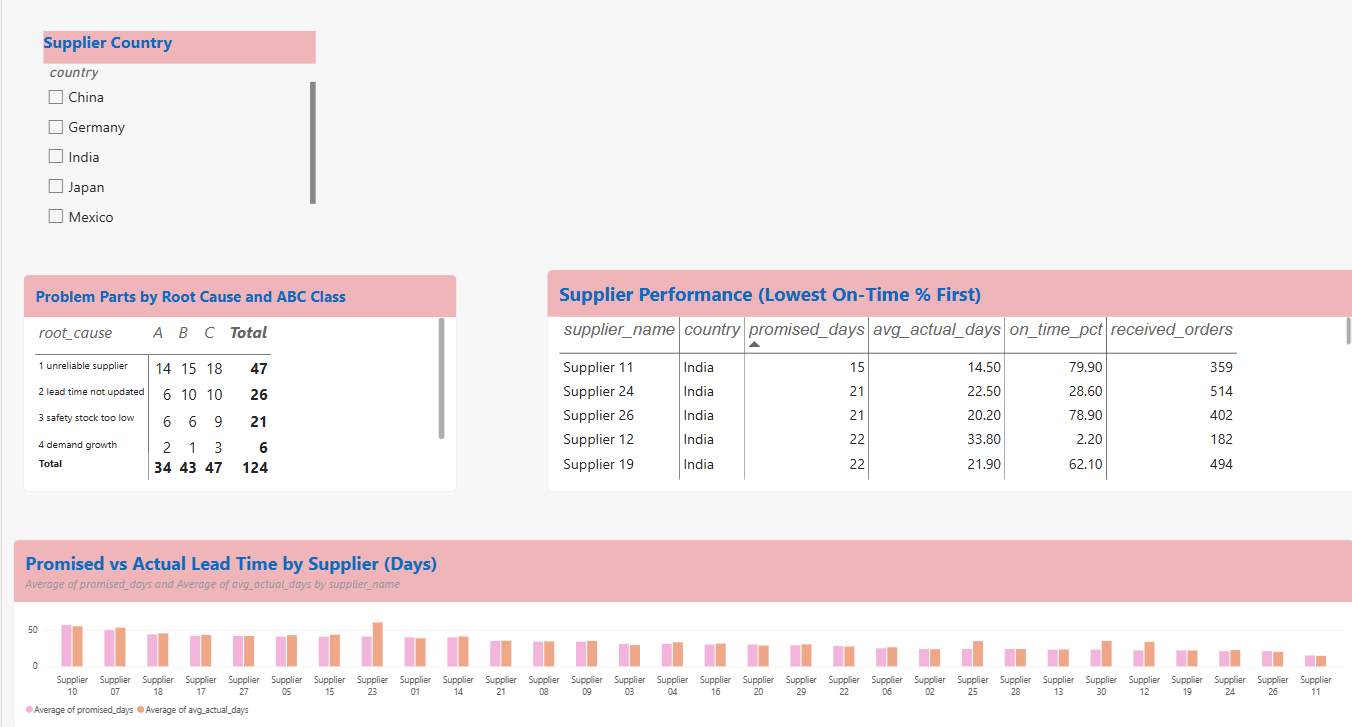

Layout of this report page (visuals, bound fields, positions):
{"tool":"powerbi","page":{"name":"Suppliers and Root Cause","canvas":[1920,1080],"ordinal":1},"visuals":[{"type":"slicer","title":"Supplier Country","fields":{"Values":["public dim_supplier.country"]},"box":[58.1,47.6,384.1,280.1],"z":0},{"type":"tableEx","title":"Supplier Performance (Lowest On-Time % First)","fields":{"Values":["public v_supplier_perf.supplier_name","public v_supplier_perf.country","public v_supplier_perf.promised_days","public v_supplier_perf.avg_actual_days","public v_supplier_perf.on_time_pct","public v_supplier_perf.received_orders"]},"box":[768.1,384.1,1152.2,313.6],"z":1},{"type":"clusteredColumnChart","title":"Promised vs Actual Lead Time by Supplier (Days)","fields":{"Category":["public v_supplier_perf.supplier_name"],"Y":["Avg(public v_supplier_perf.promised_days)","Avg(public v_supplier_perf.avg_actual_days)"]},"box":[15.9,764.6,1892.2,270],"z":2},{"type":"pivotTable","title":"Problem Parts by Root Cause and ABC Class","fields":{"Columns":["public v_part_rootcause.abc_class"],"Rows":["public v_part_rootcause.root_cause"],"Values":["CountNonNull(public v_part_rootcause.part_id)"]},"box":[30,391.1,611.3,306.6],"z":3}]}

Visuals, with their boxes on the page's 1920x1080 design canvas (x1, y1, x2, y2). These are canvas units, not pixel positions in the 1352x727 screenshot, which may show the page scaled, cropped or inside an application window:
"Supplier Country" slicer: [58,48,442,328]
"Supplier Performance (Lowest On-Time % First)" tableEx: [768,384,1920,698]
"Promised vs Actual Lead Time by Supplier (Days)" clusteredColumnChart: [16,765,1908,1035]
"Problem Parts by Root Cause and ABC Class" pivotTable: [30,391,641,698]
